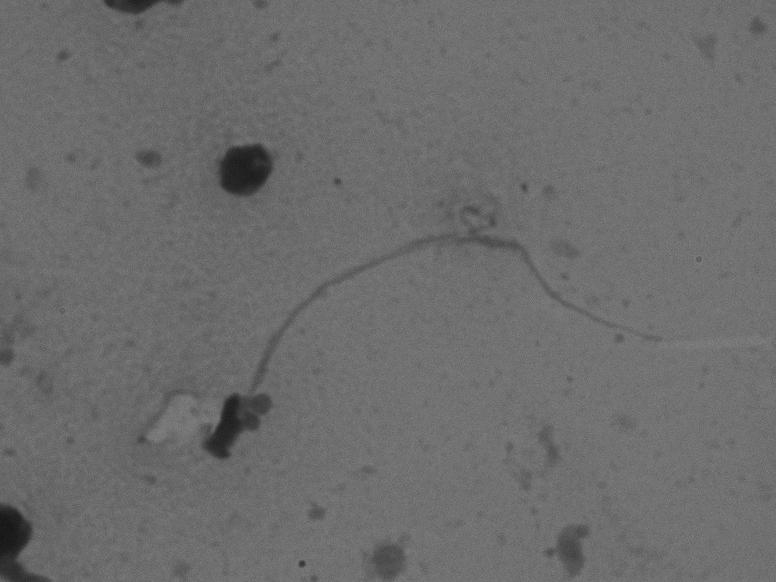Abnormal: (181, 205, 683, 497)
